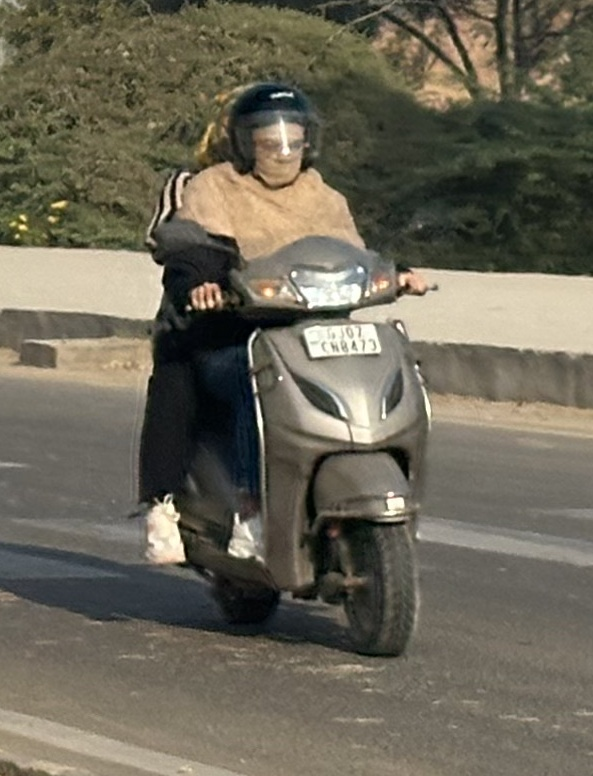BikeWithRider: (114, 71, 453, 665)
Helmet: (209, 75, 335, 191)
